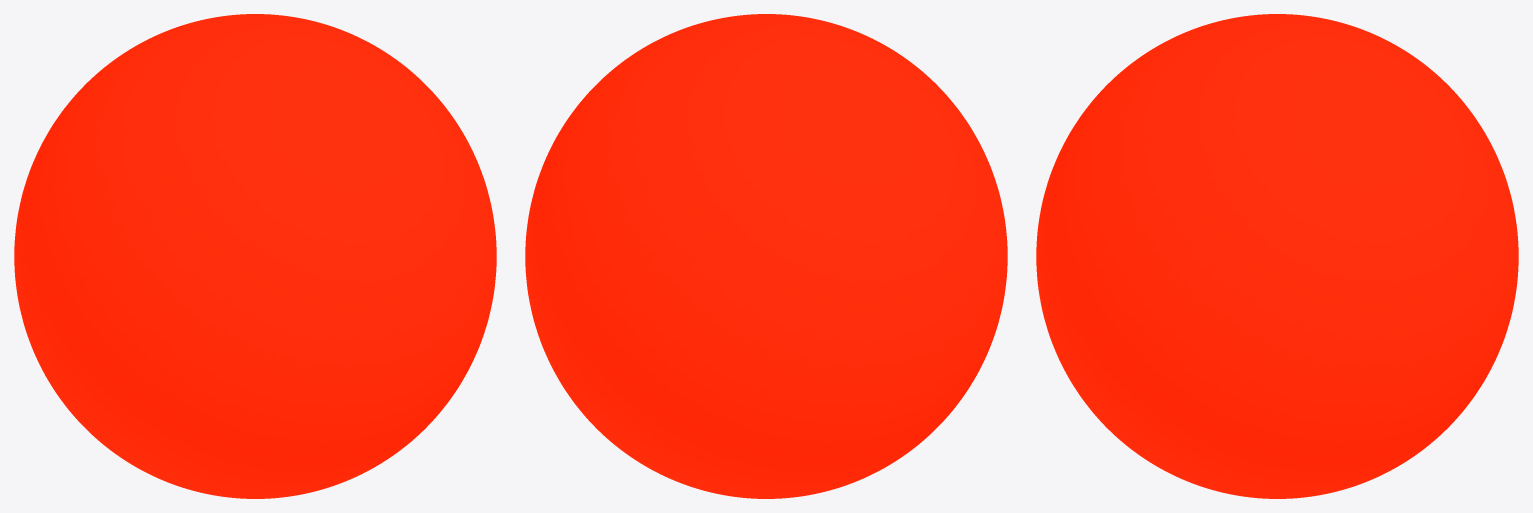
Rendered from Red_esfera.glb.
The picture shows the model from 3 angles, left to right: view 1: azimuth 30°, elevation 25°; view 2: azimuth 150°, elevation 25°; view 3: azimuth 270°, elevation 25°; orthographic projection.
Visible parts, largest first — view 1: Red_Sphere; view 2: Red_Sphere; view 3: Red_Sphere.
Boxes of the visible parts, x1=… form: Red_Sphere: x1=14, y1=14, x2=496, y2=498; Red_Sphere: x1=525, y1=14, x2=1007, y2=498; Red_Sphere: x1=1036, y1=14, x2=1518, y2=498.
Size of the model in its own units: 2.98 by 3 by 2.98.
